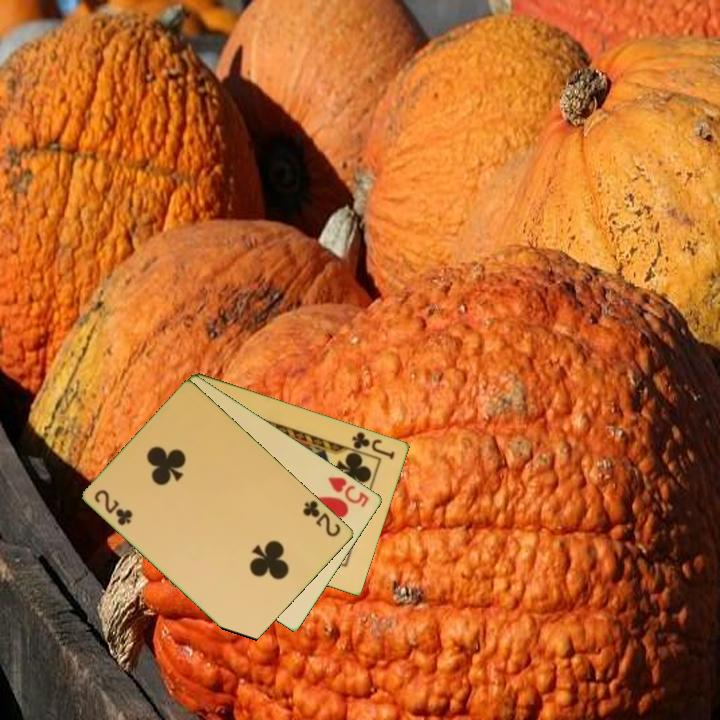2c: (299, 496, 344, 540), (91, 486, 136, 529)
5h: (325, 473, 372, 510)
Jc: (349, 428, 398, 462)
